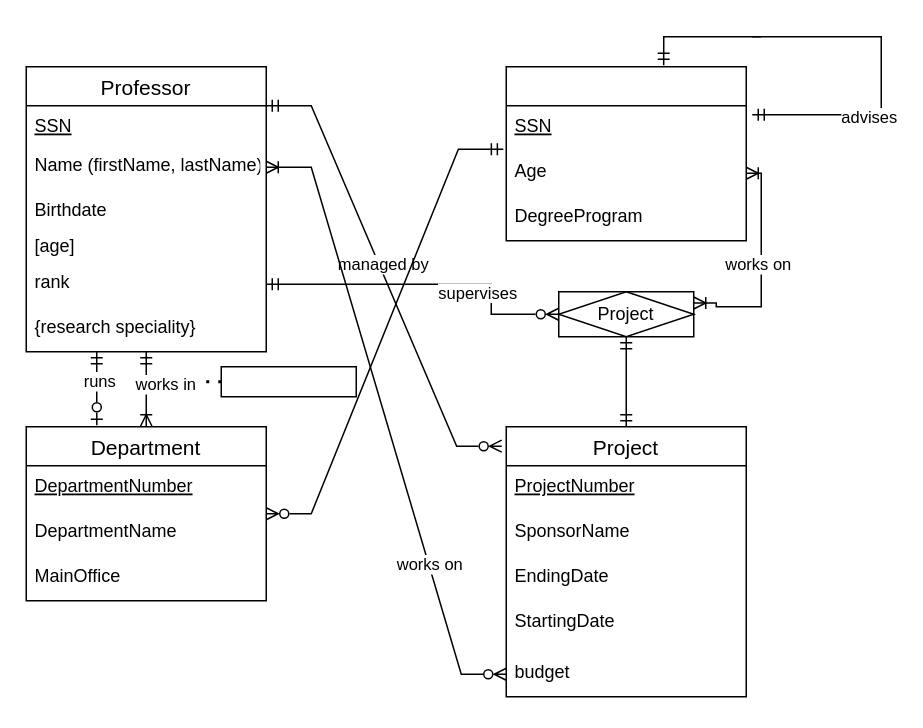
Image size: 923x728. Some labels were removed from this diagram. Here are the shapes that lost their labels. From the top down, the box of each, then its label:
(505, 65, 746, 241): Graduate Student
(220, 365, 356, 397): TimePercentage
